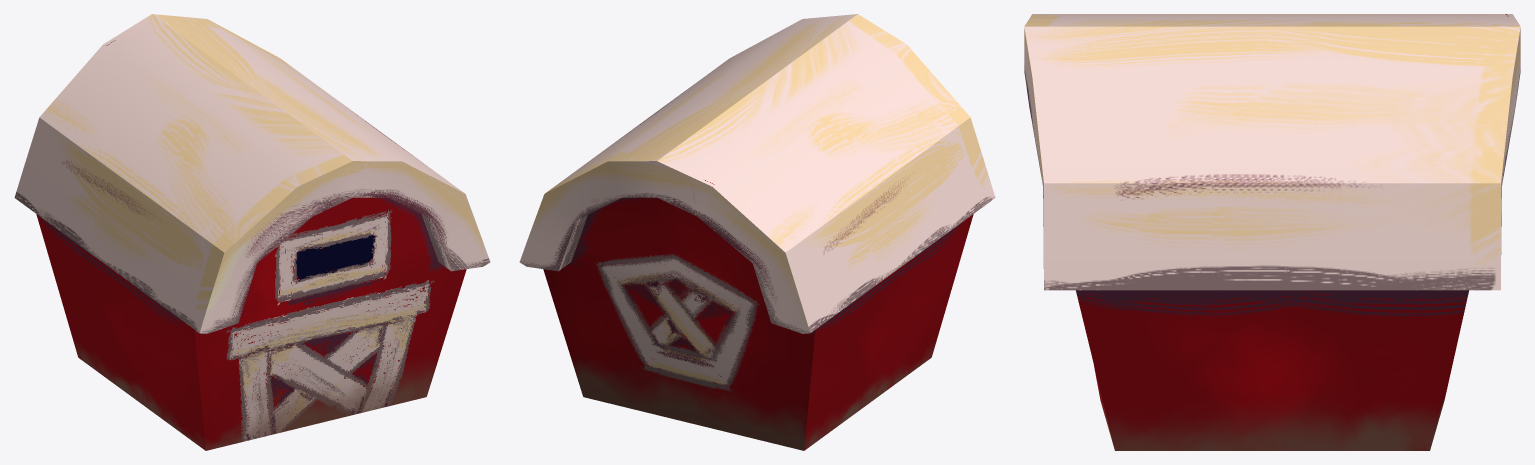
The model's file is Granero.fbx.
3 views of the same model, side by side, from view 1: azimuth 30°, elevation 25°; view 2: azimuth 150°, elevation 25°; view 3: azimuth 270°, elevation 25° (orthographic). The views are drawn at different scales.
Parts seen in each view (by area): view 1: Cube.001; view 2: Cube.001; view 3: Cube.001.
Boxes of the visible parts, x1,y1,x2,y2 form: Cube.001: [14, 14, 490, 450]; Cube.001: [519, 14, 995, 450]; Cube.001: [1024, 14, 1520, 450].
Bounding box in the file's own units: 1053 × 1003 × 1261.
1 material, 1 textured.
